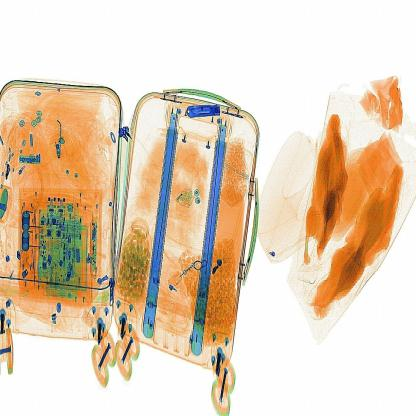knife: (182, 96, 223, 126)
